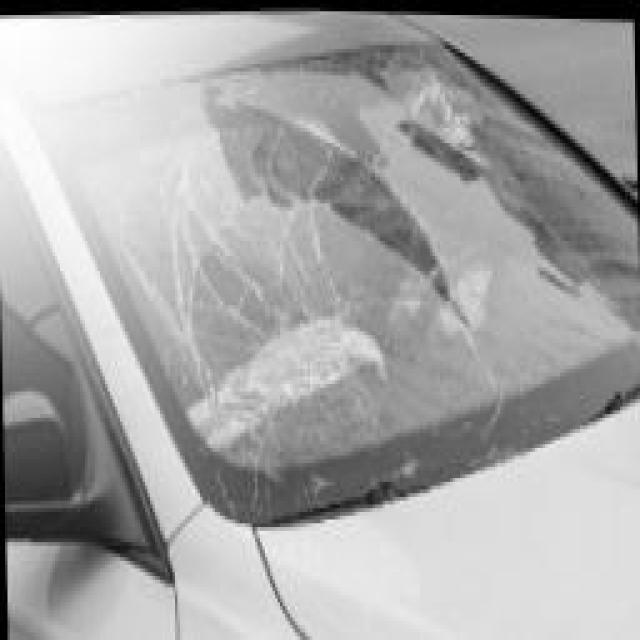Windshield: (168, 30, 638, 479)
